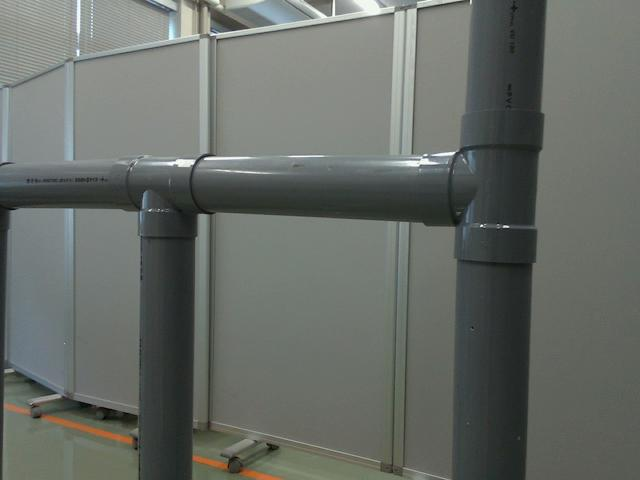junction: (421, 110, 544, 267), (108, 150, 221, 240)
